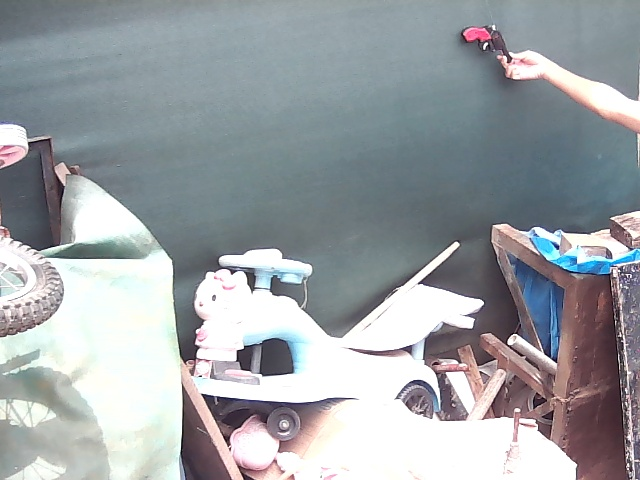pistola: (458, 14, 516, 67)
